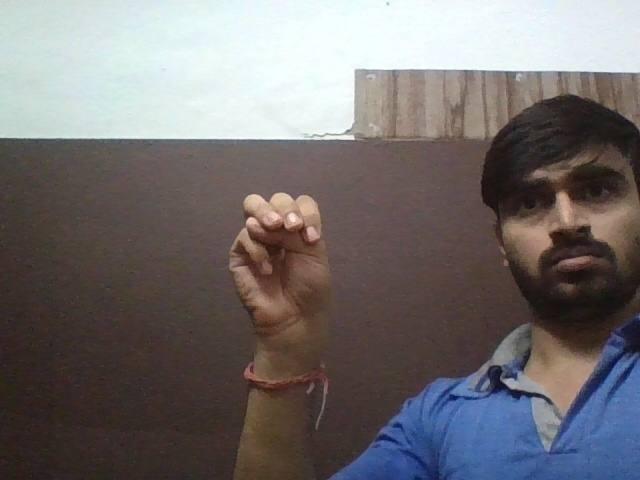M: (202, 184, 369, 347)
